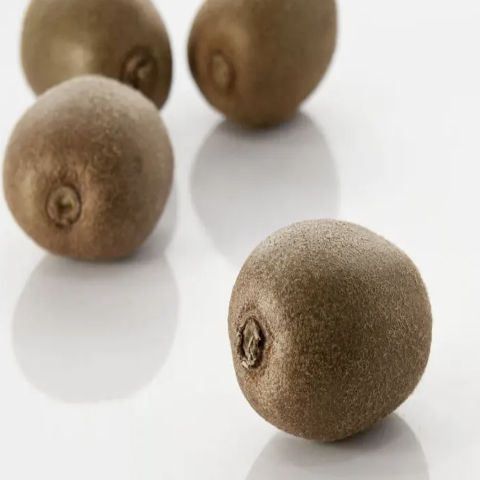kiwi: (209, 202, 451, 455), (0, 73, 198, 278)
